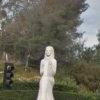Statue: (26, 36, 59, 100)
